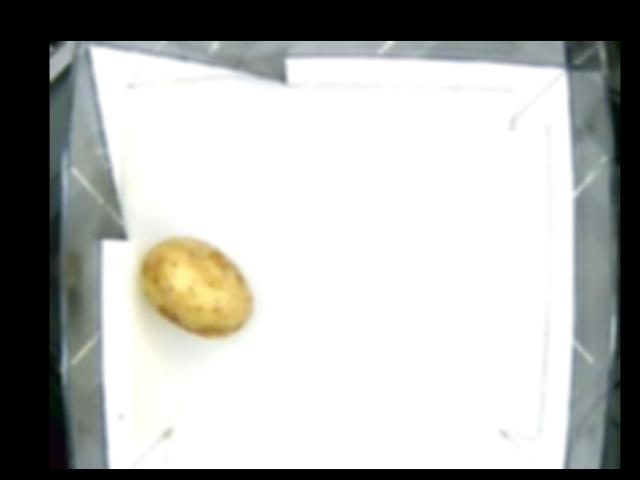Potato: (138, 238, 257, 341)
